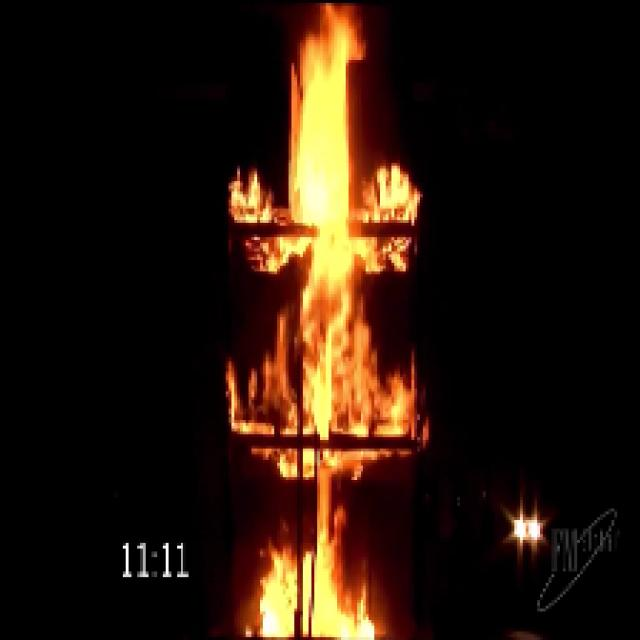fire: (266, 4, 379, 628)
